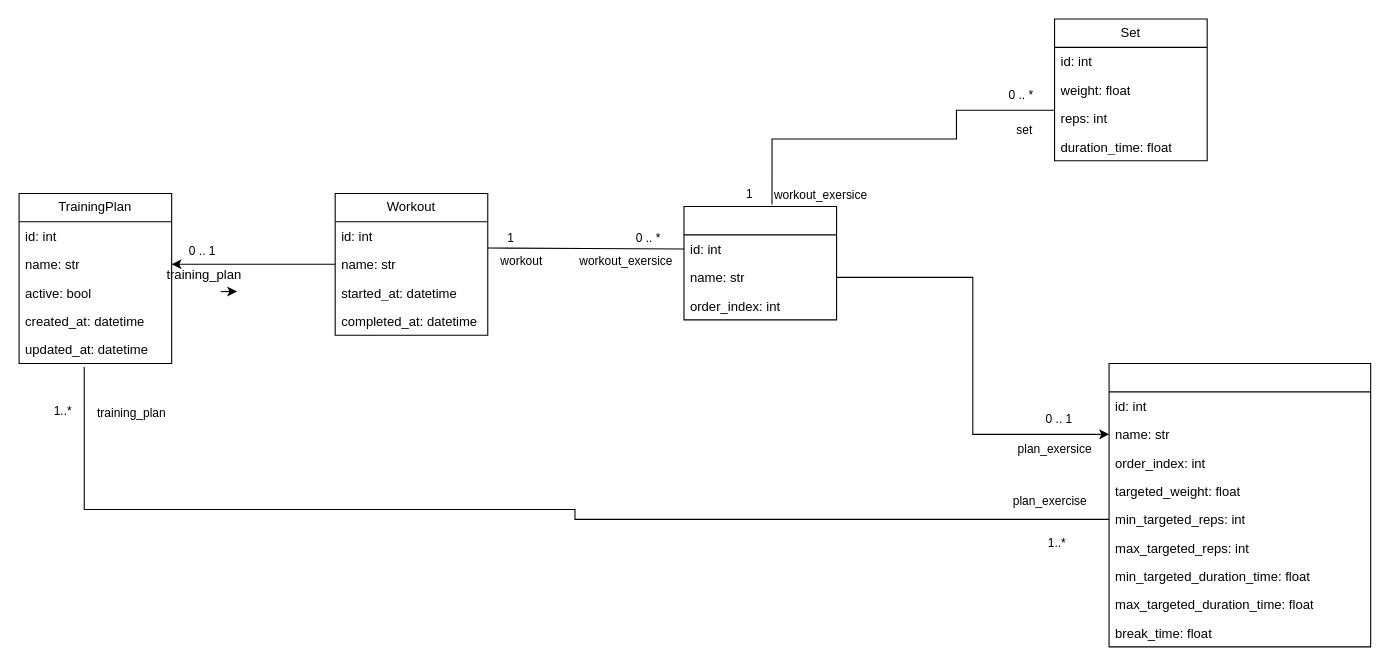
Image size: 1390x669. Some labels were removed from this diagram. Here are the shapes that lost their labels. From the top down, the box of each, then its label:
(683, 205, 837, 320): WorkoutExercise
(1108, 362, 1371, 647): PlanExercise
